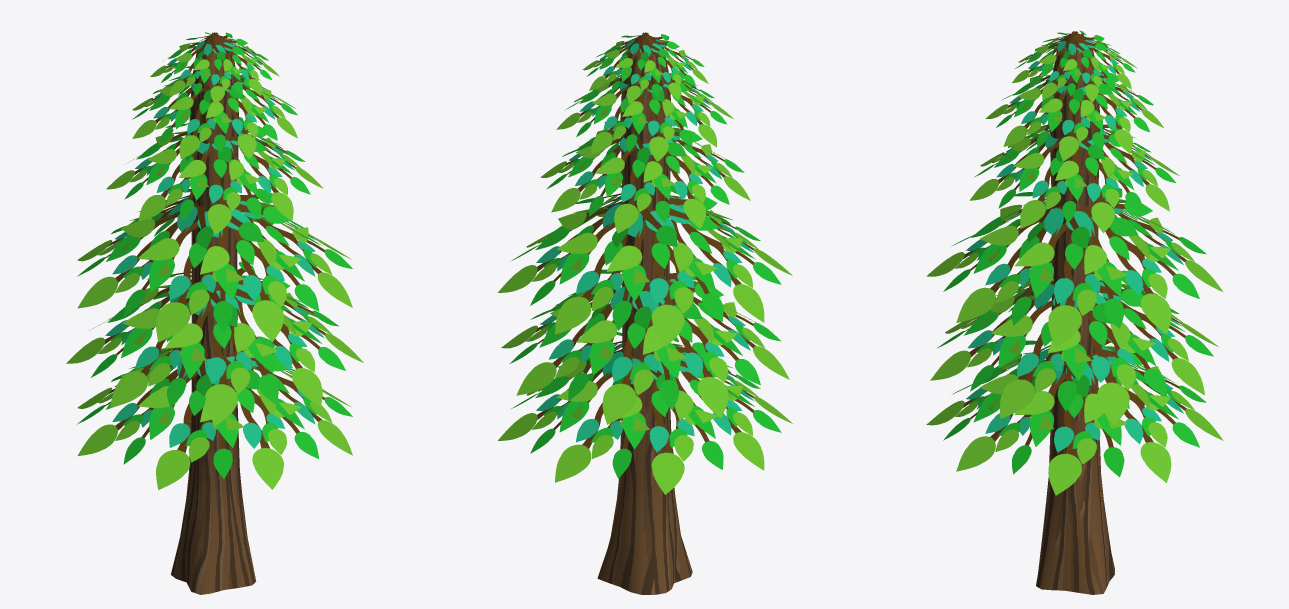
File: Tree_Pine.fbx
3 renders of one model, left to right at view 1: azimuth 30°, elevation 25°; view 2: azimuth 150°, elevation 25°; view 3: azimuth 270°, elevation 25°, orthographic.
Visible parts, largest first — view 1: pasted__pCylinder6, pPlane21, pPlane17, pPlane9, pPlane5, pPlane1, pPlane20, pPlane13, pPlane15, pPlane23, pPlane4, pPlane25 (+17 smaller); view 2: pasted__pCylinder6, pPlane24, pPlane18, pPlane16, pPlane8, pPlane12, pPlane2, pPlane20, pPlane10, pPlane4, pPlane22, pPlane32 (+17 smaller); view 3: pasted__pCylinder6, pPlane19, pPlane3, pPlane14, pPlane23, pPlane11, pPlane22, pPlane6, pPlane7, pPlane10, pPlane15, pPlane30 (+16 smaller).
Part boxes in pixels (x1=…): pasted__pCylinder6: x1=171, y1=40, x2=256, y2=594; pPlane21: x1=138, y1=210, x2=263, y2=342; pPlane17: x1=200, y1=203, x2=319, y2=341; pPlane9: x1=165, y1=287, x2=283, y2=426; pPlane5: x1=138, y1=355, x2=259, y2=489; pPlane1: x1=200, y1=351, x2=318, y2=489; pPlane20: x1=77, y1=203, x2=213, y2=316; pPlane13: x1=110, y1=290, x2=237, y2=407; pPlane15: x1=234, y1=280, x2=345, y2=407; pPlane23: x1=239, y1=188, x2=352, y2=307; pPlane4: x1=77, y1=359, x2=212, y2=464; pPlane25: x1=179, y1=136, x2=264, y2=234; pasted__pCylinder6: x1=597, y1=33, x2=692, y2=594; pPlane24: x1=606, y1=208, x2=723, y2=346; pPlane18: x1=555, y1=208, x2=677, y2=334; pPlane16: x1=576, y1=289, x2=702, y2=424; pPlane8: x1=619, y1=360, x2=723, y2=494; pPlane12: x1=643, y1=280, x2=760, y2=418; pPlane2: x1=555, y1=356, x2=676, y2=482; pPlane20: x1=667, y1=195, x2=781, y2=322; pPlane10: x1=516, y1=285, x2=651, y2=401; pPlane4: x1=675, y1=342, x2=781, y2=470; pPlane22: x1=498, y1=202, x2=628, y2=305; pPlane32: x1=595, y1=142, x2=686, y2=233; pasted__pCylinder6: x1=1036, y1=37, x2=1114, y2=594; pPlane19: x1=1015, y1=206, x2=1138, y2=346; pPlane3: x1=1014, y1=354, x2=1138, y2=495; pPlane14: x1=1048, y1=285, x2=1166, y2=424; pPlane23: x1=956, y1=206, x2=1089, y2=325; pPlane11: x1=990, y1=288, x2=1113, y2=418; pPlane22: x1=1084, y1=199, x2=1199, y2=334; pPlane6: x1=1084, y1=349, x2=1199, y2=482; pPlane7: x1=956, y1=361, x2=1089, y2=474; pPlane10: x1=1099, y1=270, x2=1213, y2=395; pPlane15: x1=930, y1=282, x2=1060, y2=391; pPlane30: x1=1055, y1=134, x2=1141, y2=233.
Bounding box in the file's own units: 703 × 1060 × 703.
